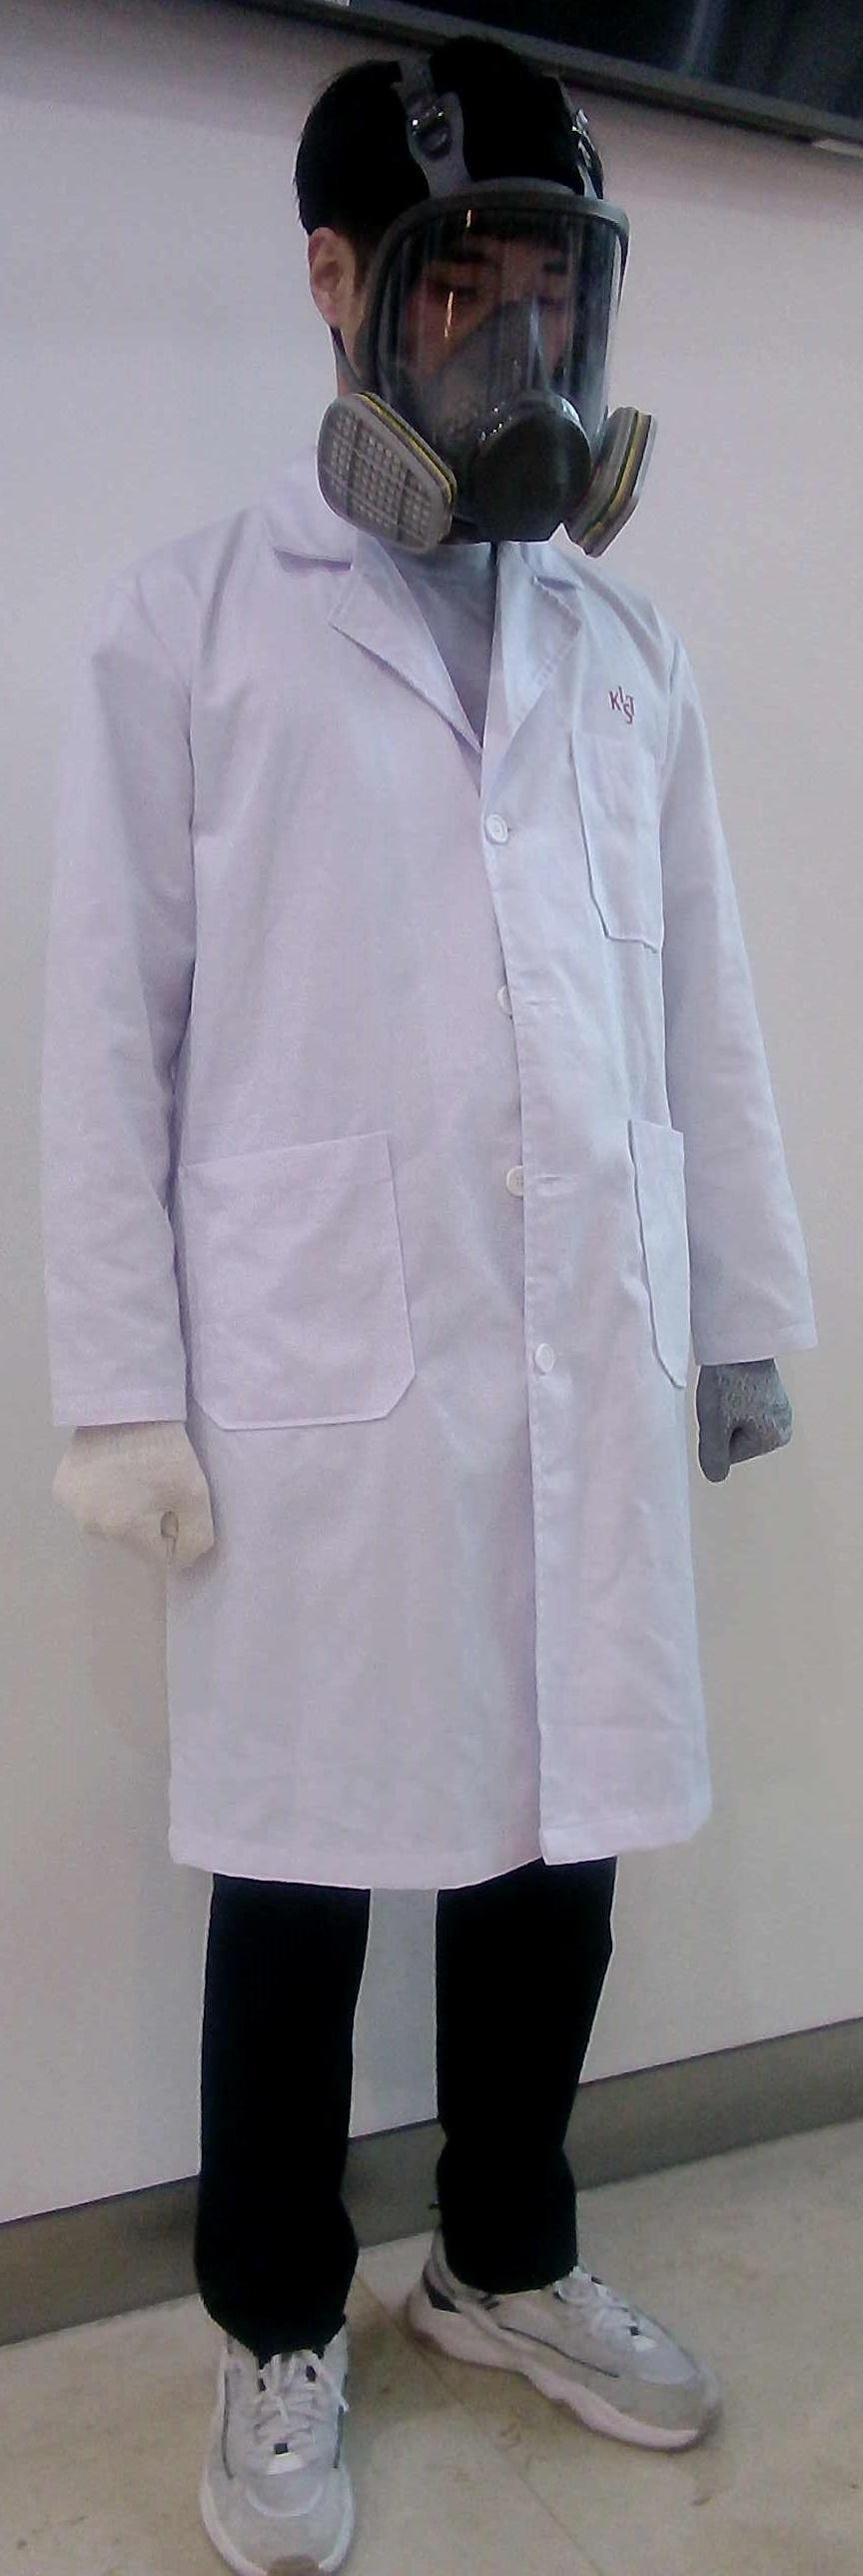lab_coat: (200, 545, 710, 1865)
